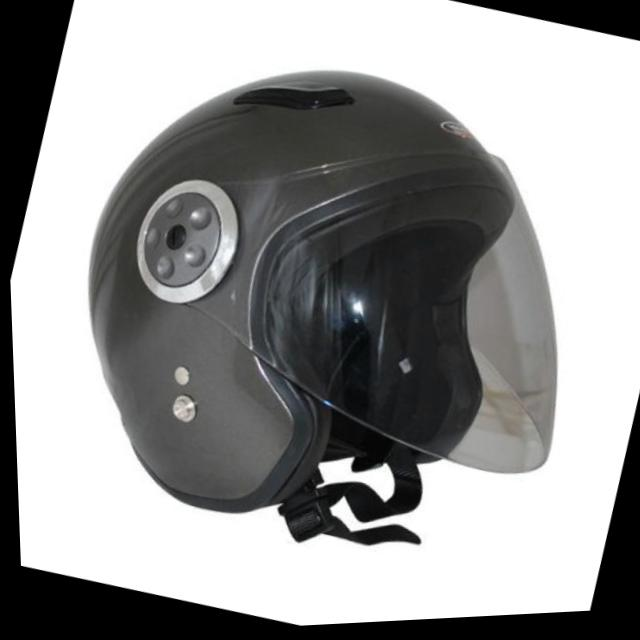helmet: (2, 0, 640, 629)
